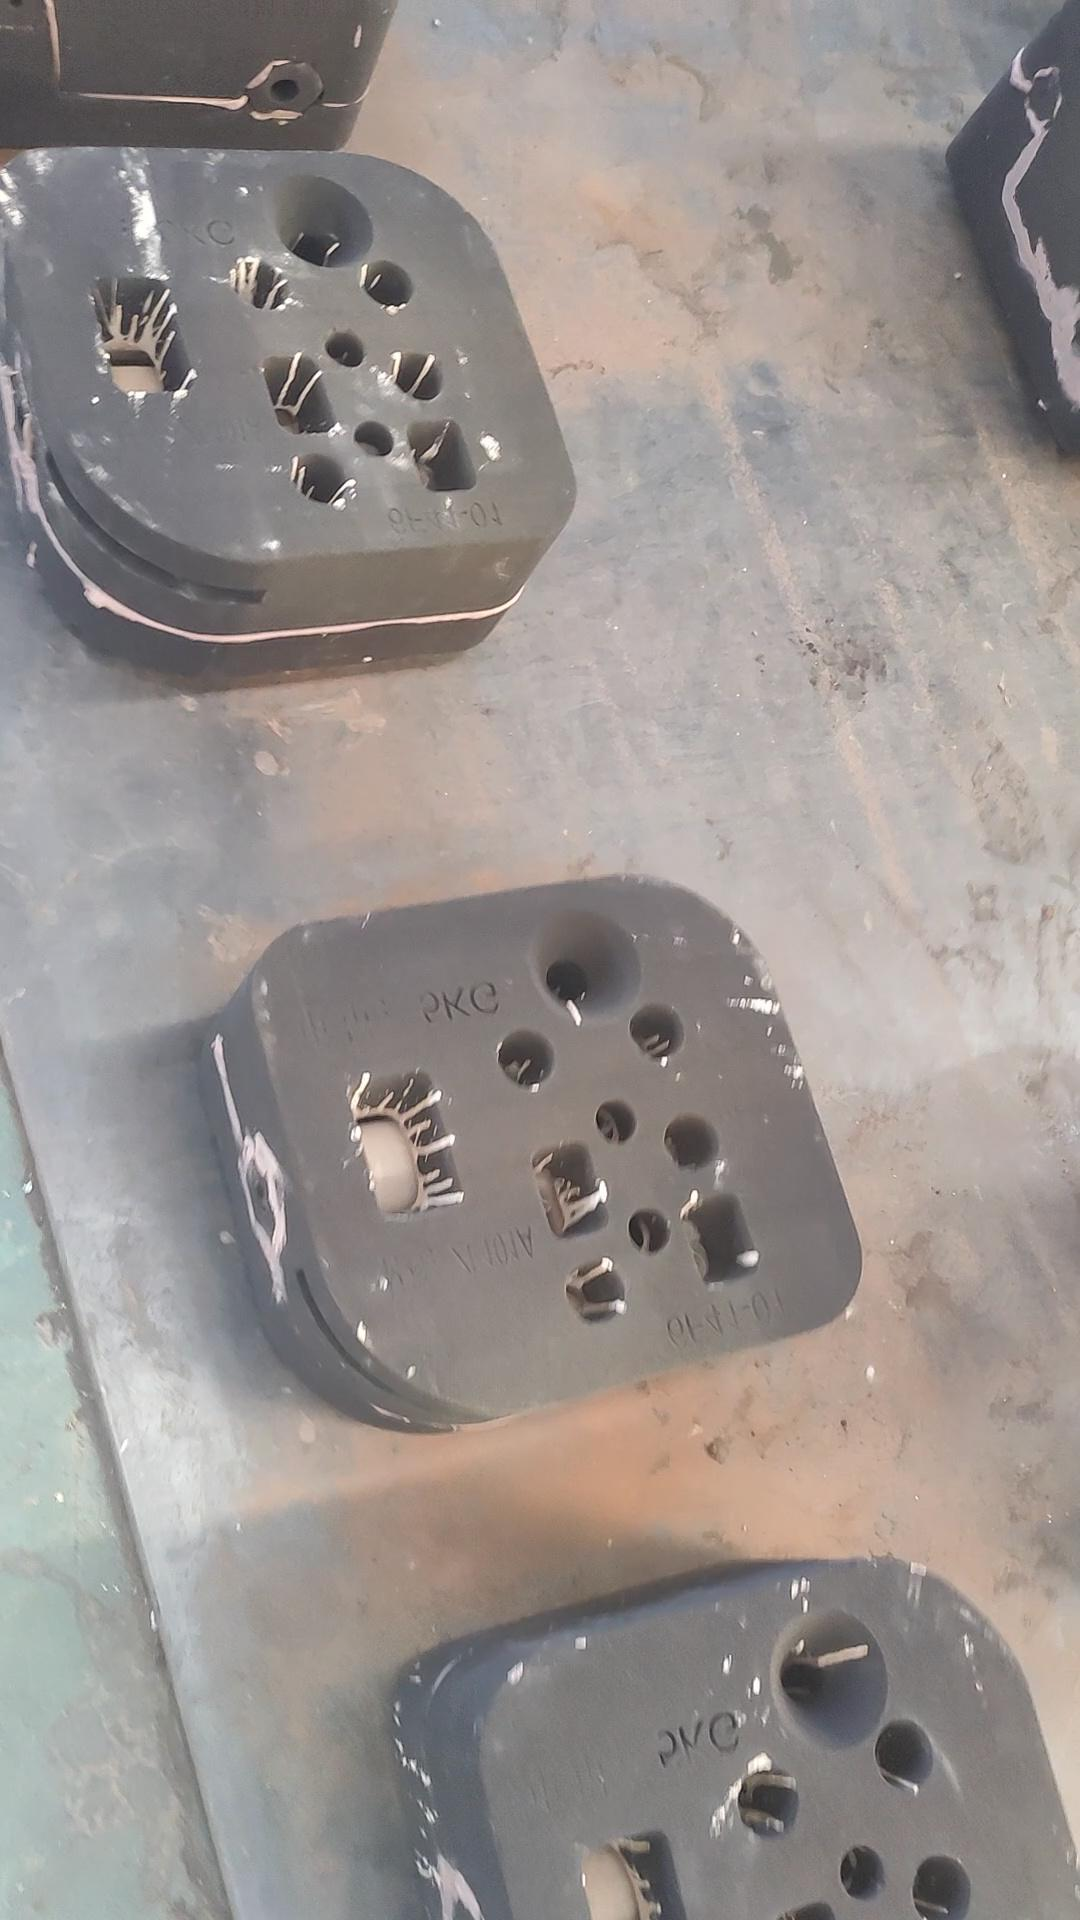pouring hole: (767, 1605, 889, 1755), (524, 905, 644, 1022), (266, 171, 376, 268)
